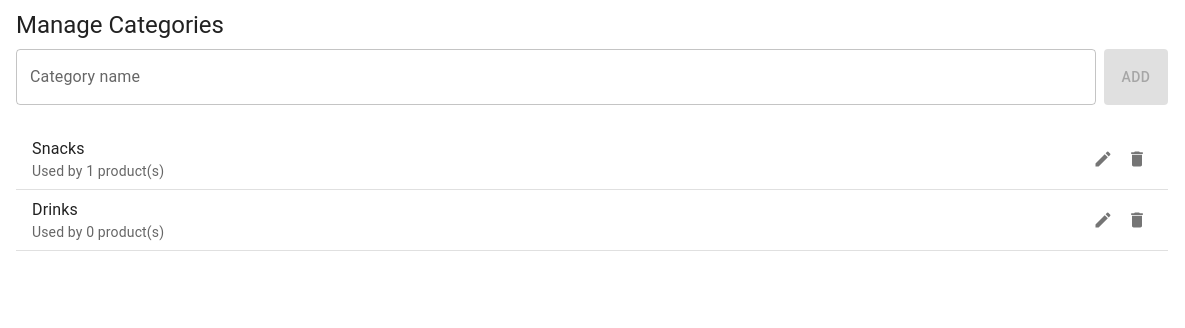
it: ManageCategoriesScreen additional › prevents renaming to an existing name
Click the button named "edit snacks" at (1103,159), box top-left (1088, 144), bottom-right (1118, 174)
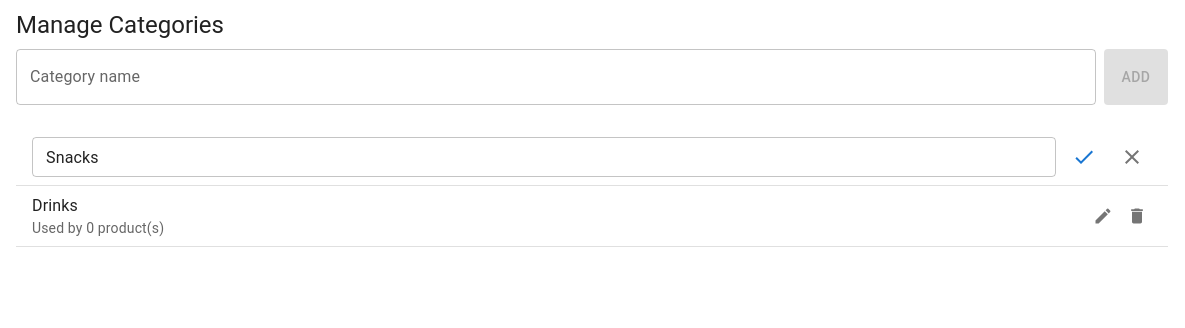
Replace the text in the field showing "snacks" with "Drinks" at (544,157), box top-left (32, 137), bottom-right (1056, 177)
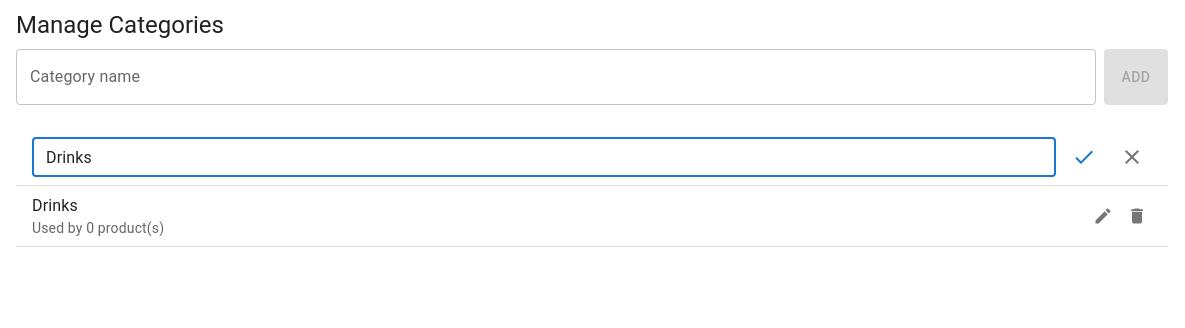
Click the button named "save category" at (1084,157), box top-left (1064, 137), bottom-right (1104, 177)
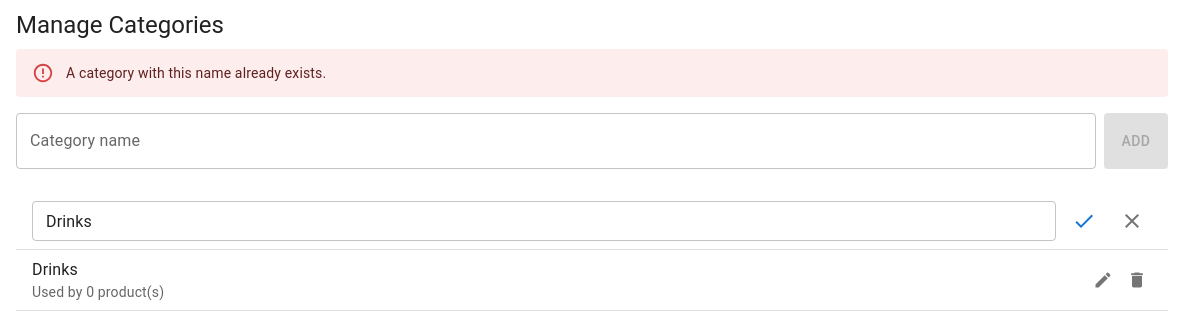
Now the text "A category with this name already exists." is shown, box top-left (66, 65), bottom-right (326, 81)
